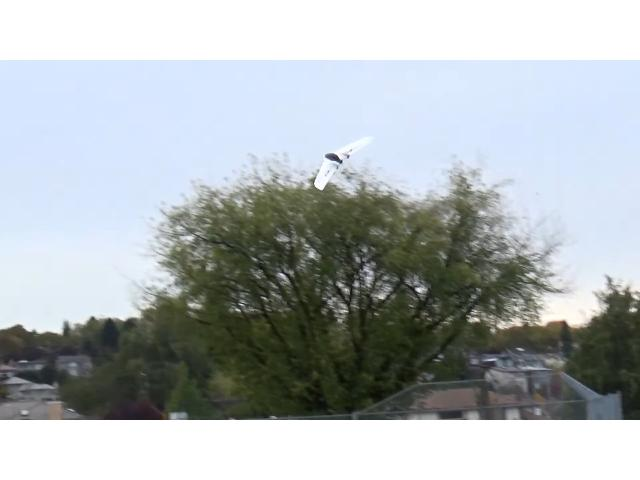Anti-Drone: (314, 136, 370, 191)
